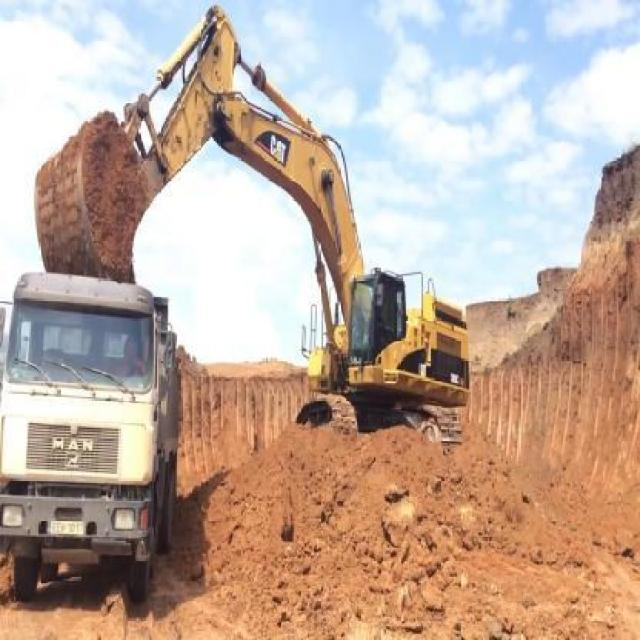Dump Truck: (0, 270, 174, 616)
Excavator: (27, 3, 490, 442)
